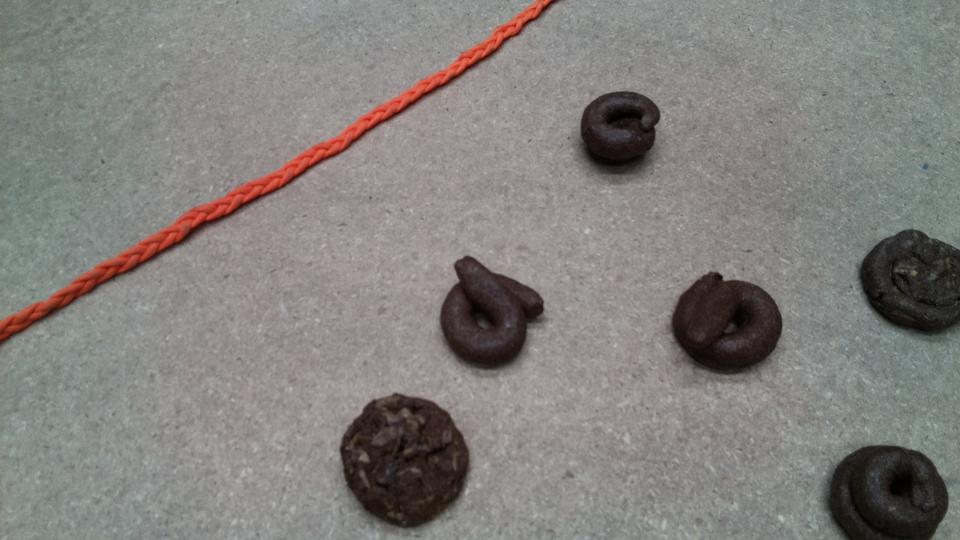poop: (338, 391, 475, 530), (437, 253, 546, 373), (825, 440, 953, 540), (669, 269, 786, 376), (858, 222, 960, 339), (575, 88, 662, 173)
rope: (1, 1, 547, 324)
